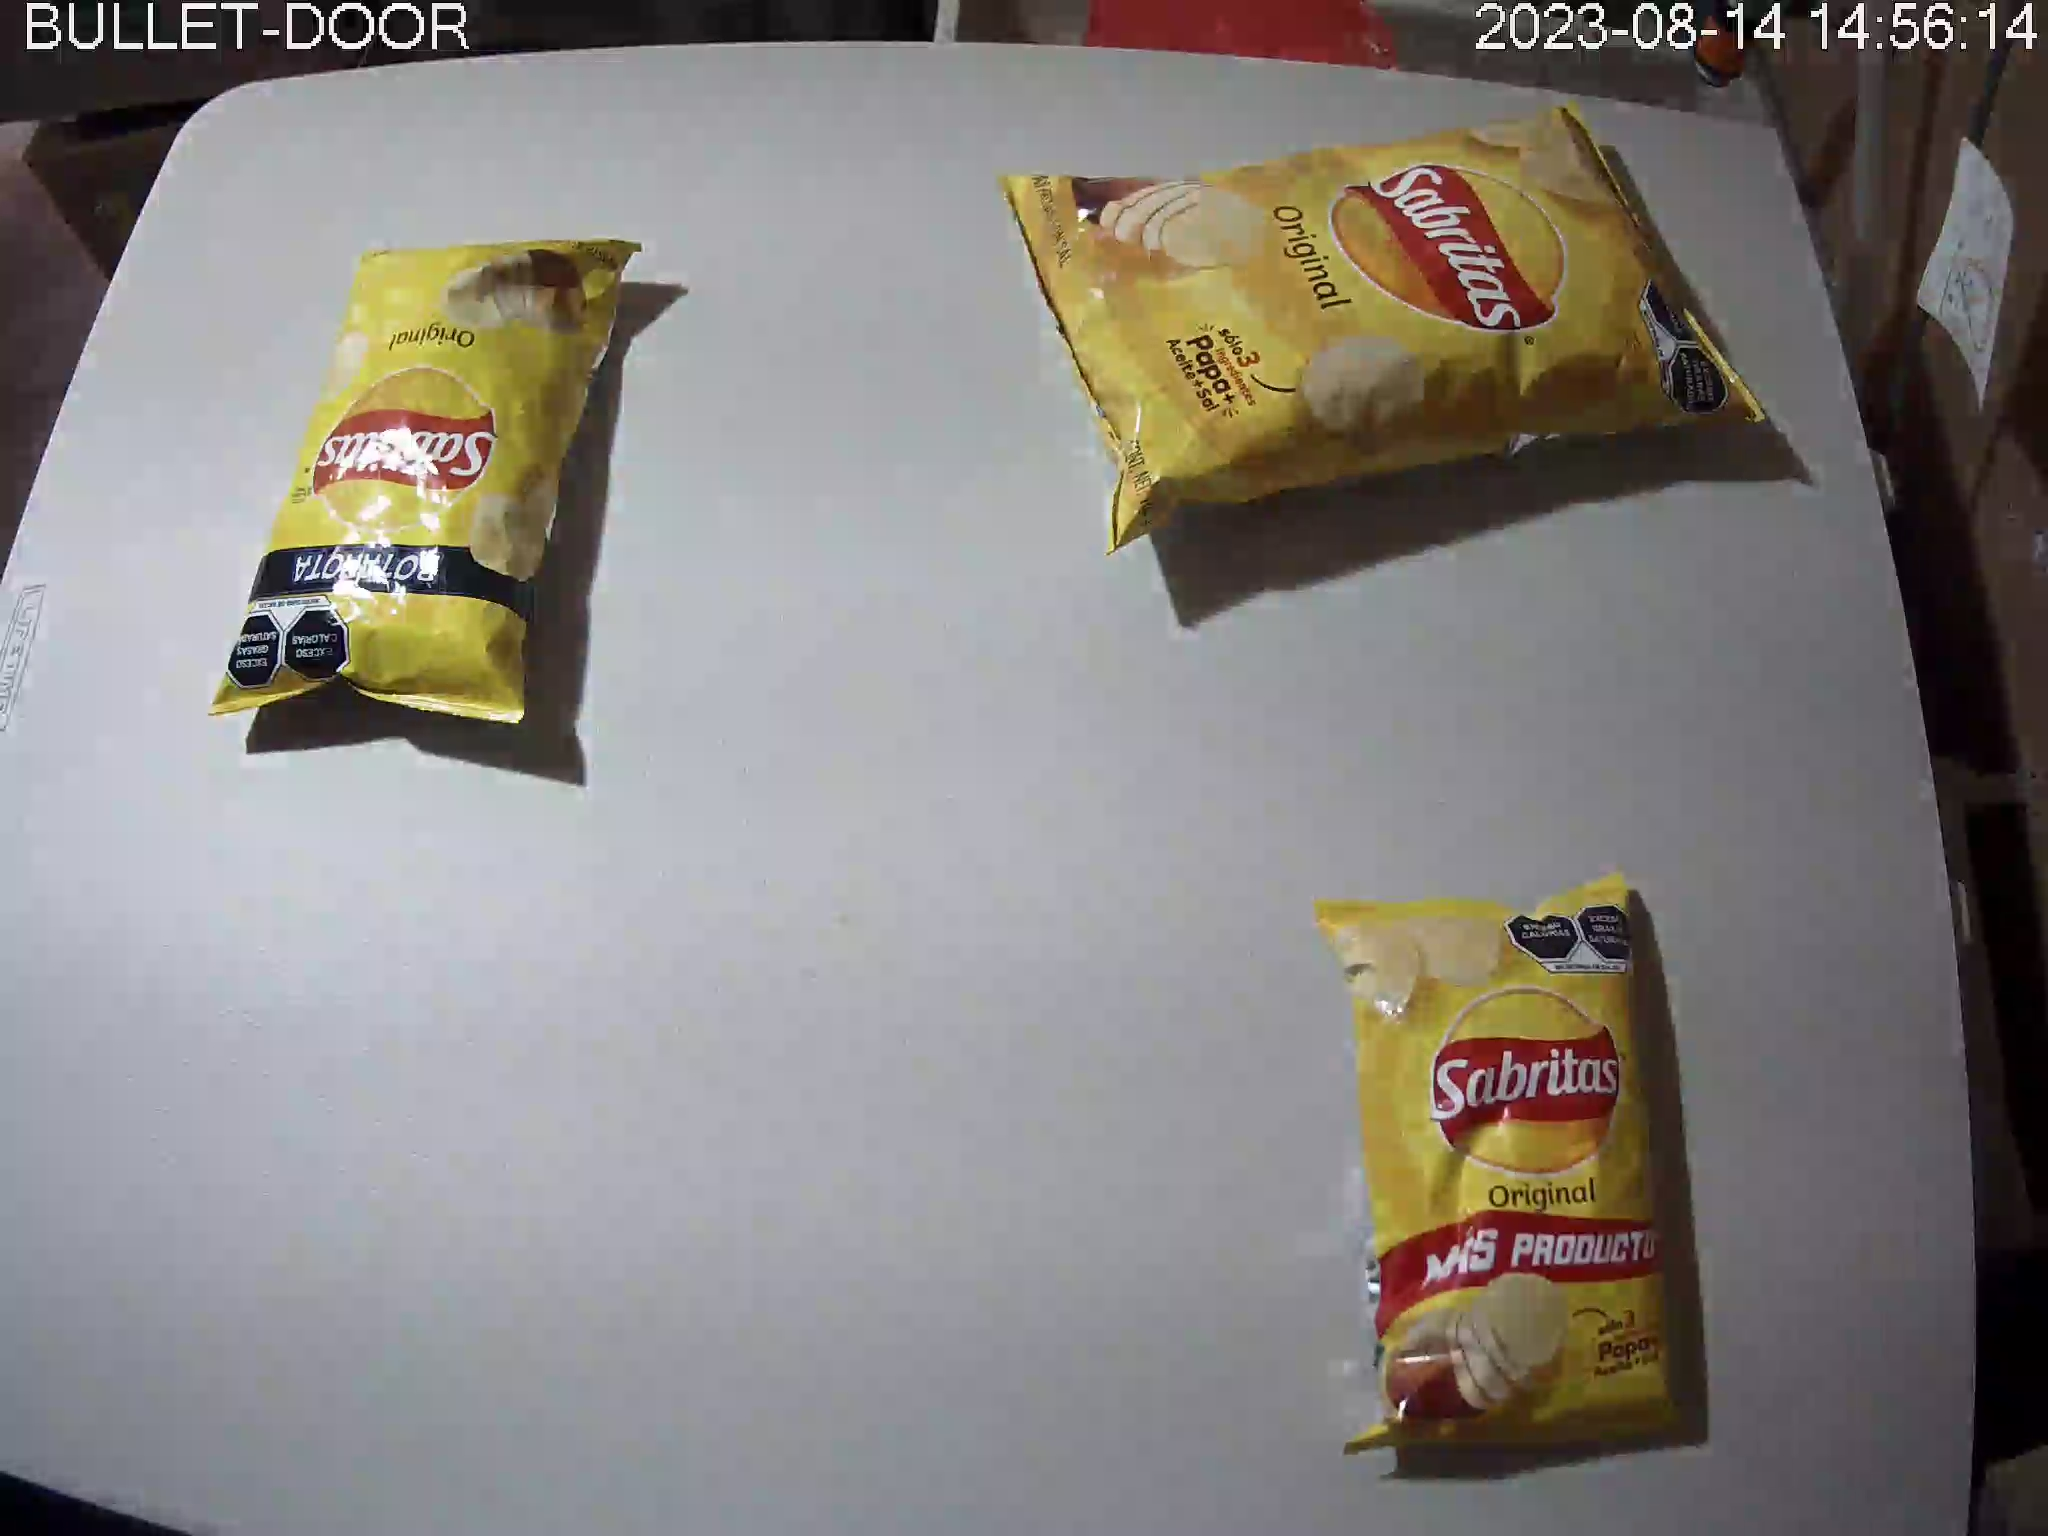Sabritas_160_F: (997, 97, 1769, 558)
Sabritas_45_F: (1313, 865, 1684, 1454)
Sabritas_64_F: (210, 237, 648, 721)
